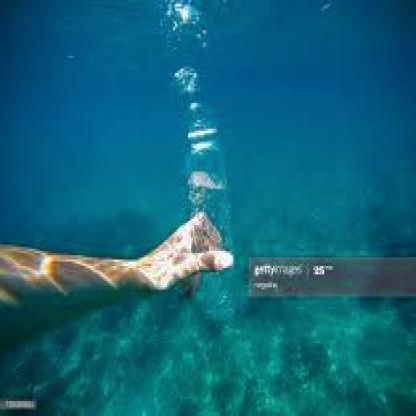pbottle: (168, 90, 238, 328)
